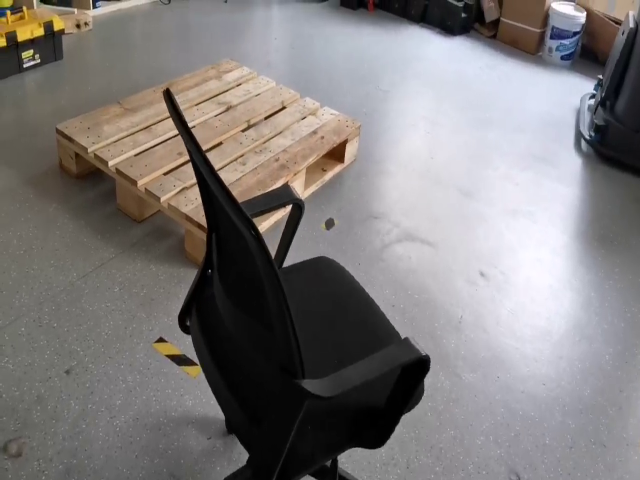block: (114, 170, 146, 222), (55, 127, 81, 180), (183, 217, 204, 268), (343, 126, 361, 166), (289, 169, 309, 198)
front: (56, 126, 206, 269)
hole pallet: (141, 199, 183, 247), (76, 158, 116, 205)
